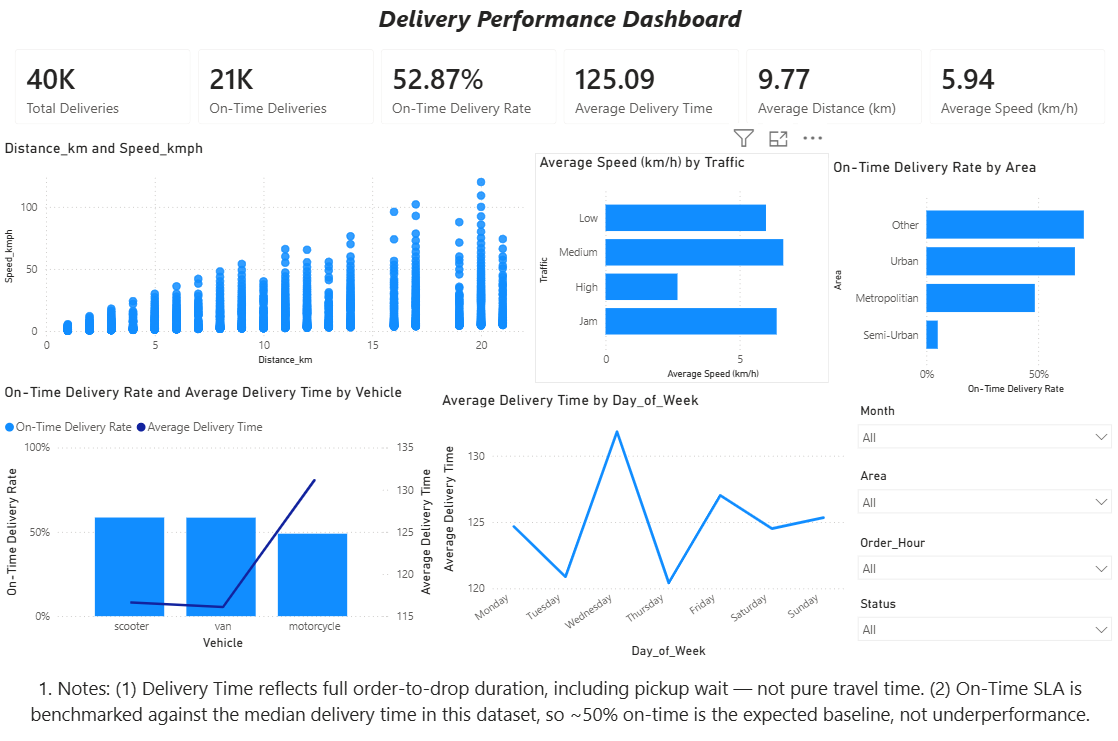

The page's visual inventory and layout, read from the dashboard file:
{"tool":"powerbi","page":{"name":"Page 1","canvas":[1280,850],"ordinal":0},"visuals":[{"type":"cardVisual","fields":{"Data":["delivery_data_table.Total Deliveries","delivery_data_table.On-Time Deliveries","delivery_data_table.On-Time Delivery Rate","delivery_data_table.Average Delivery Time","delivery_data_table.Average Distance (km)","delivery_data_table.Average Speed (km/h)"]},"box":[0,41.7,1280,120],"z":0},{"type":"scatterChart","fields":{"X":["delivery_data_table.Distance_km"],"Y":["delivery_data_table.Speed_kmph"]},"box":[0,161.7,611.7,263.3],"z":1000},{"type":"clusteredBarChart","fields":{"Y":["delivery_data_table.Average Speed (km/h)"],"Category":["delivery_data_table.Traffic"]},"box":[611.7,176.7,335,263.3],"z":2000},{"type":"clusteredBarChart","fields":{"Category":["delivery_data_table.Area"],"Y":["delivery_data_table.On-Time Delivery Rate"]},"box":[946.7,183.3,333.3,275],"z":3000},{"type":"lineStackedColumnComboChart","fields":{"Category":["delivery_data_table.Vehicle"],"Y":["delivery_data_table.On-Time Delivery Rate"],"Y2":["delivery_data_table.Average Delivery Time"]},"box":[0,440,500,310],"z":4000},{"type":"lineChart","fields":{"Y":["delivery_data_table.Average Delivery Time"],"Category":["delivery_data_table.Day_of_Week"]},"box":[500,448.3,470,310],"z":5000},{"type":"slicer","fields":{"Values":["delivery_data_table.Month"]},"box":[970,458.3,311.1,74.9],"z":6000,"group":"g1"},{"type":"slicer","fields":{"Values":["delivery_data_table.Area"]},"box":[970,533.2,311.1,74.9],"z":7000,"group":"g1"},{"type":"slicer","fields":{"Values":["delivery_data_table.Order_Hour"]},"box":[970,608.1,311.1,70.6],"z":8000,"group":"g1"},{"type":"slicer","fields":{"Values":["delivery_data_table.Status"]},"box":[970,678.6,311.1,70.6],"z":9000,"group":"g1"},{"type":"textbox","box":[0,0,1280,56.7],"z":9001},{"type":"group","id":"g1","title":"Group 1","box":[970,458.3,310,291.7],"z":9002},{"type":"textbox","box":[0,758.3,1280,91.7],"z":9004}]}

Visuals, with their boxes in screenshot pixels (x1, y1, x2, y2), scaled from the page's 1280x850 canvas onto the 1118x741 screenshot:
cardVisual - delivery_data_table.Total Deliveries x delivery_data_table.On-Time Deliveries: [x1=0, y1=36, x2=1117, y2=141]
scatterChart - delivery_data_table.Distance_km x delivery_data_table.Speed_kmph: [x1=0, y1=141, x2=534, y2=370]
clusteredBarChart - delivery_data_table.Average Speed (km/h) x delivery_data_table.Traffic: [x1=534, y1=154, x2=827, y2=384]
clusteredBarChart - delivery_data_table.Area x delivery_data_table.On-Time Delivery Rate: [x1=827, y1=160, x2=1117, y2=400]
lineStackedColumnComboChart - delivery_data_table.Vehicle x delivery_data_table.On-Time Delivery Rate: [x1=0, y1=384, x2=437, y2=654]
lineChart - delivery_data_table.Average Delivery Time x delivery_data_table.Day_of_Week: [x1=437, y1=391, x2=847, y2=661]
slicer - delivery_data_table.Month: [x1=847, y1=400, x2=1117, y2=465]
slicer - delivery_data_table.Area: [x1=847, y1=465, x2=1117, y2=530]
slicer - delivery_data_table.Order_Hour: [x1=847, y1=530, x2=1117, y2=592]
slicer - delivery_data_table.Status: [x1=847, y1=592, x2=1117, y2=653]
textbox: [x1=0, y1=0, x2=1117, y2=49]
"Group 1" group: [x1=847, y1=400, x2=1117, y2=654]
textbox: [x1=0, y1=661, x2=1117, y2=740]
